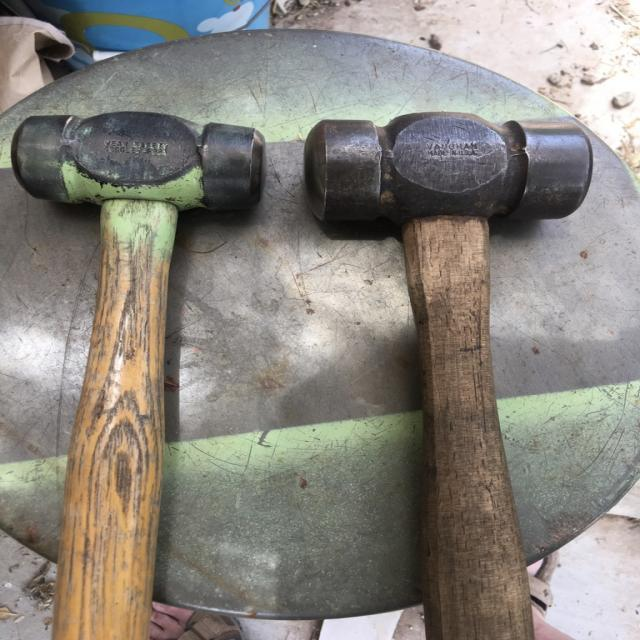hammer: (293, 100, 615, 640), (9, 102, 268, 640)
